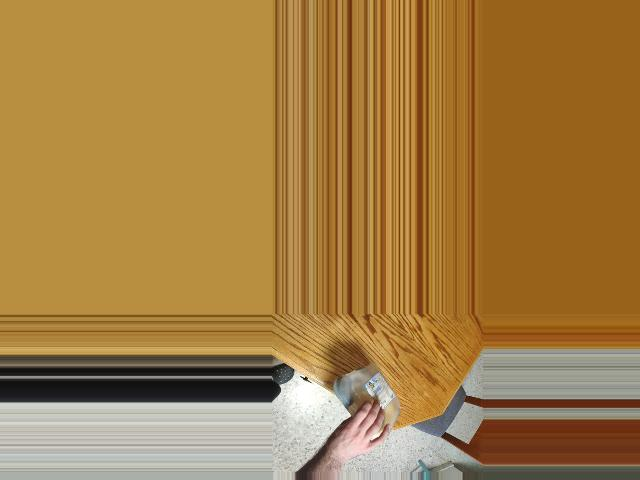cheese: (337, 366, 402, 445)
